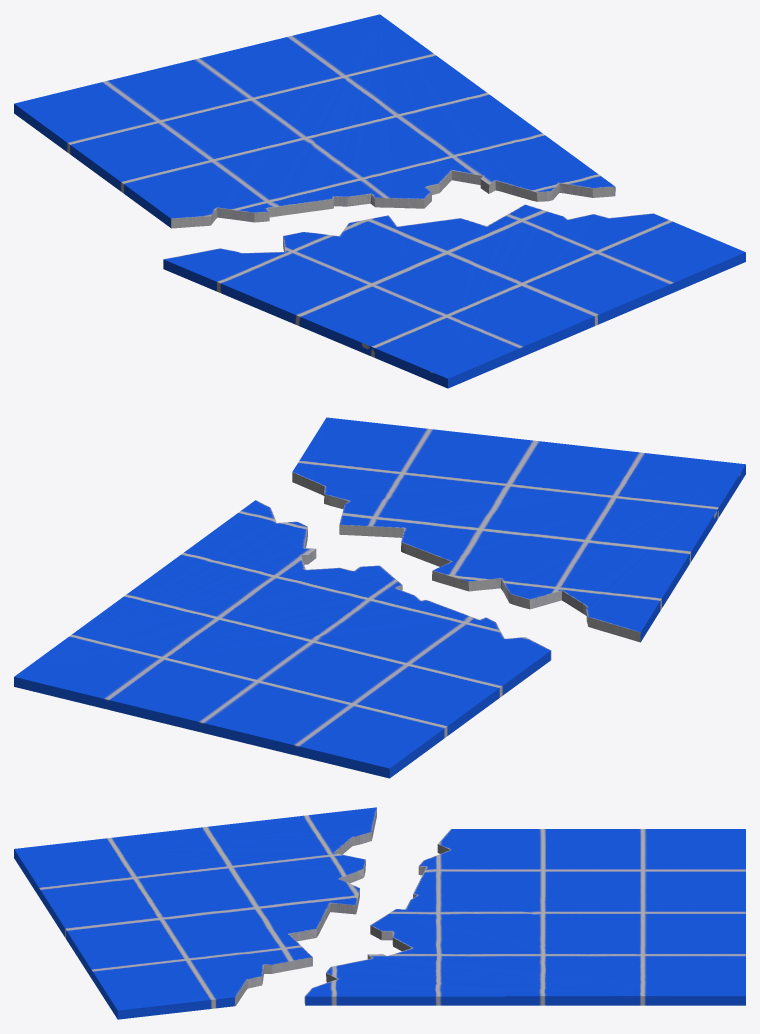
File: papier.obj
3 renders of one model, top to bottom at view 1: azimuth 30°, elevation 25°; view 2: azimuth 150°, elevation 25°; view 3: azimuth 270°, elevation 25°, orthographic. The views are drawn at different scales.
Parts seen in each view (by area): view 1: 300570_23_06_15_11_51_43_2, 300570_23_06_15_11_51_43_1; view 2: 300570_23_06_15_11_51_43_2, 300570_23_06_15_11_51_43_1; view 3: 300570_23_06_15_11_51_43_2, 300570_23_06_15_11_51_43_1.
Boxes of the visible parts, <box> form: 300570_23_06_15_11_51_43_2: <box>14,14,615,228</box>; 300570_23_06_15_11_51_43_1: <box>163,204,745,388</box>; 300570_23_06_15_11_51_43_2: <box>14,500,551,778</box>; 300570_23_06_15_11_51_43_1: <box>292,417,745,642</box>; 300570_23_06_15_11_51_43_2: <box>304,829,745,1005</box>; 300570_23_06_15_11_51_43_1: <box>14,807,376,1019</box>.
Bounding box in the file's own units: 3.79 × 0.0799 × 5.76.
Materials: 2 (2 with a texture image).
